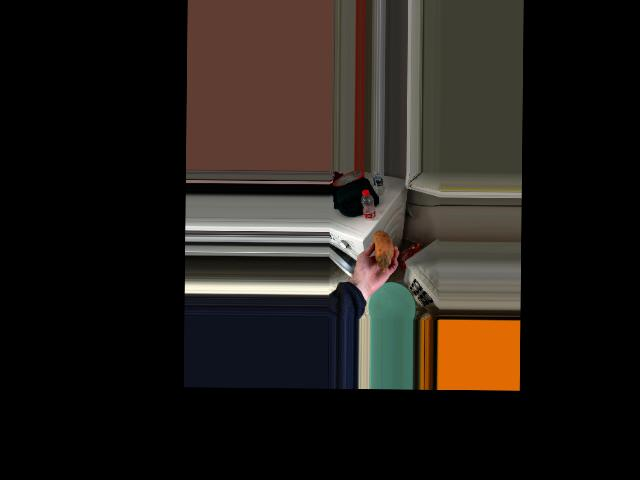sweet_potato: (370, 227, 391, 274)
